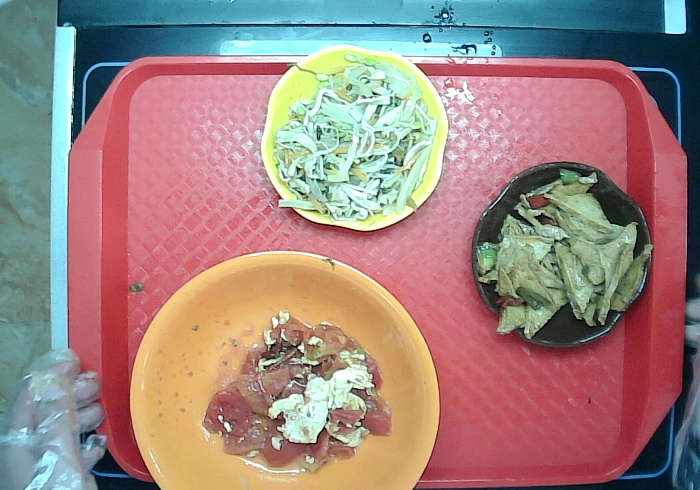YKMZ-Huang_Se_Ao_Bian_Wan: (252, 36, 460, 238)
YKMZ-Ju_Se_Tang_Wan: (120, 241, 449, 490)
YKMZ-Ka_Fei_Ao_Bian_Wan: (460, 145, 657, 360)
